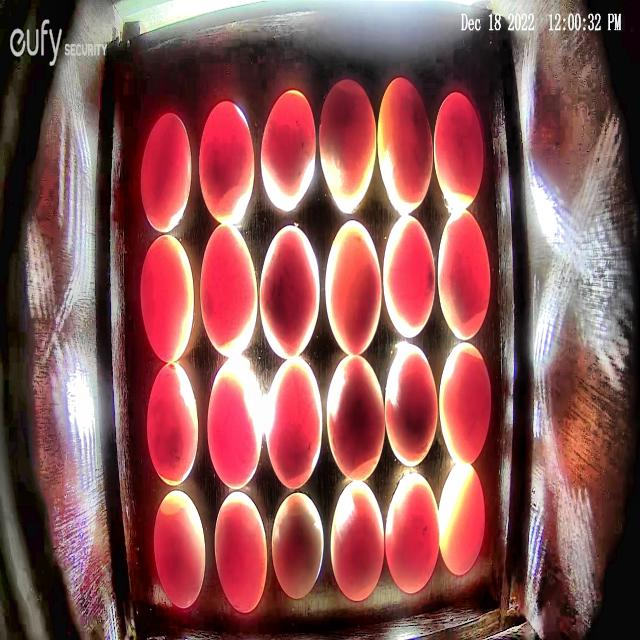FE: (259, 223, 321, 361), (377, 76, 434, 216), (318, 80, 376, 216), (325, 219, 382, 355), (265, 357, 323, 490), (200, 224, 258, 356), (208, 354, 264, 488), (326, 354, 384, 482), (198, 98, 256, 225), (260, 88, 317, 213), (437, 210, 491, 340), (140, 234, 194, 363), (384, 343, 438, 467), (214, 490, 268, 614), (439, 340, 492, 466), (330, 480, 385, 601), (385, 472, 439, 593), (383, 216, 435, 339), (147, 363, 199, 486), (140, 112, 192, 233), (154, 489, 205, 608), (434, 90, 484, 210), (272, 492, 325, 601), (439, 463, 486, 576)
